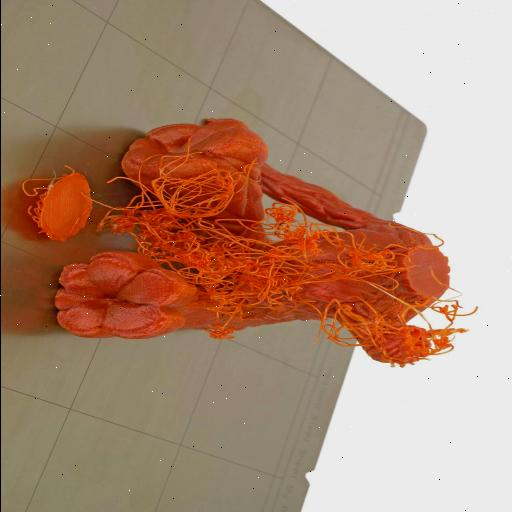spaghetti: (114, 172, 281, 302), (316, 296, 462, 372), (277, 225, 411, 284)
